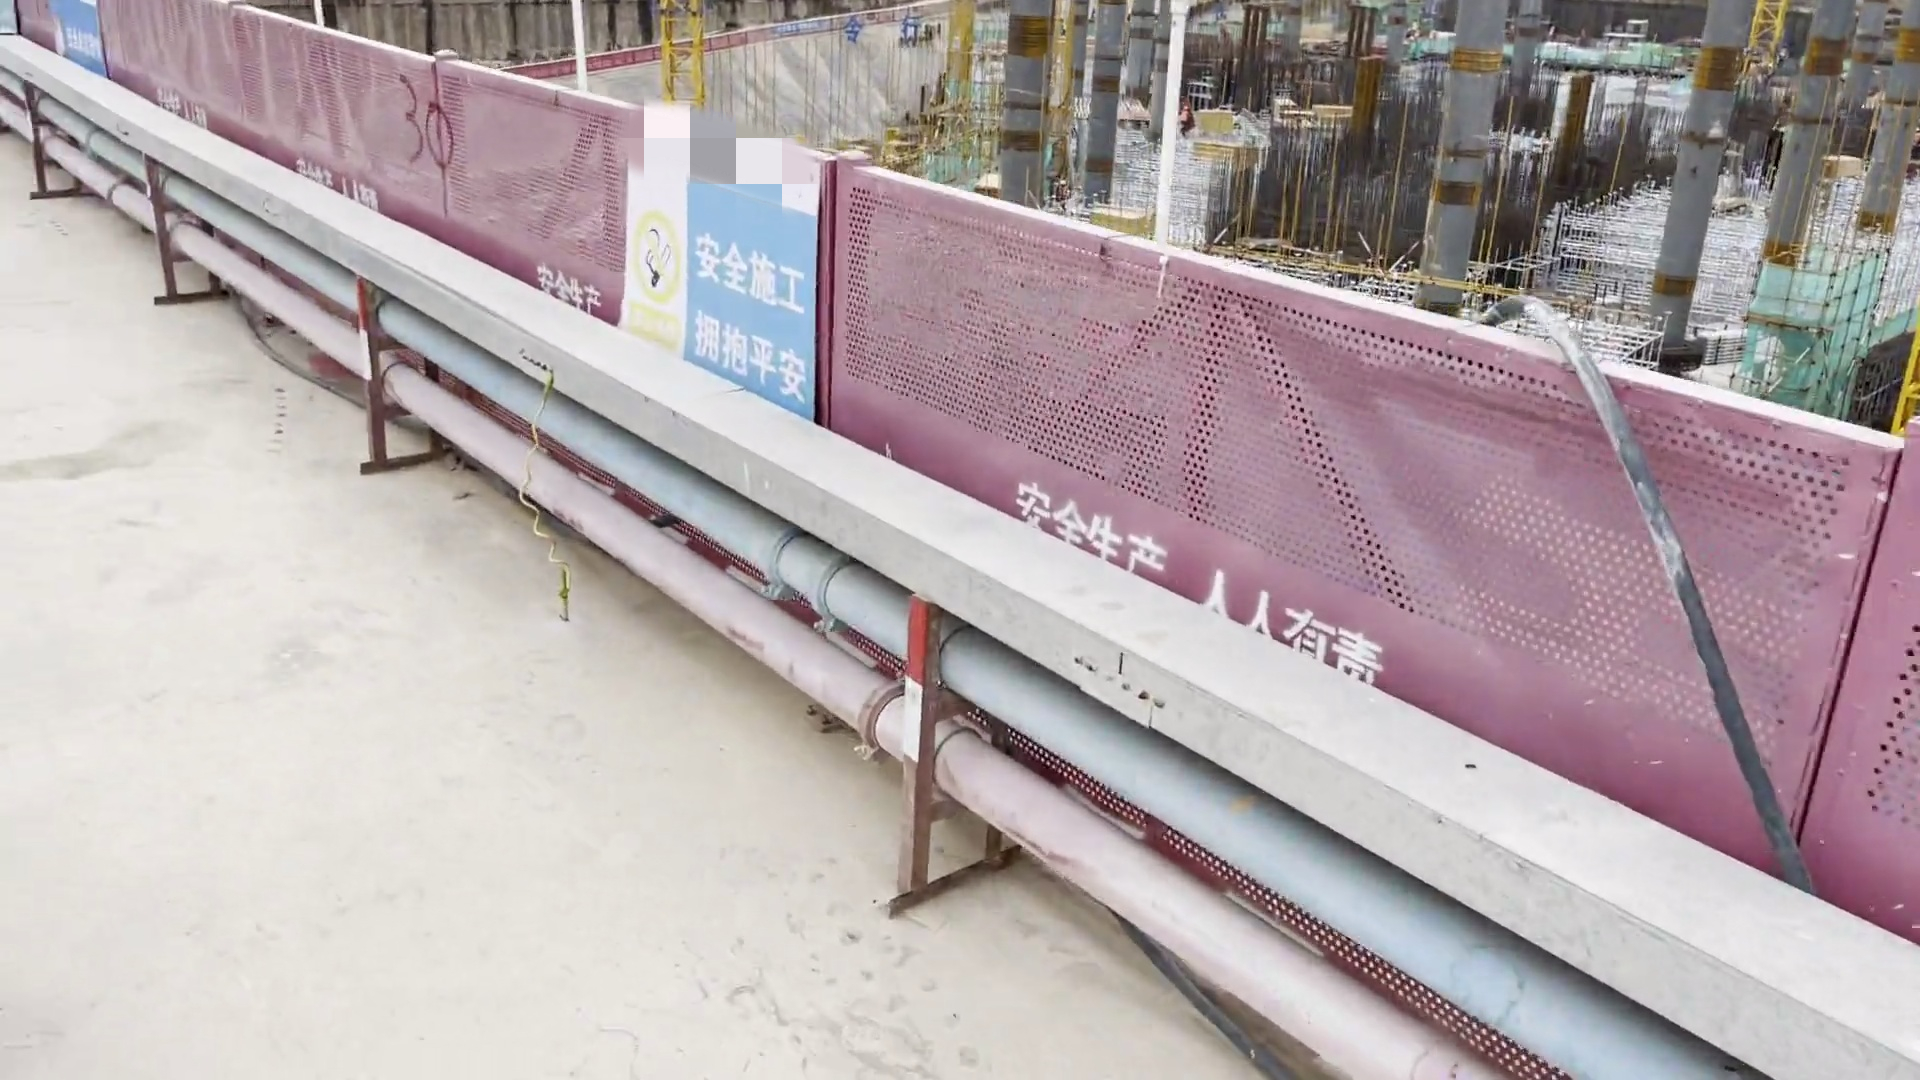fence: (1073, 260, 1695, 824), (657, 115, 1077, 597), (1652, 377, 1920, 949), (345, 34, 669, 414), (3, 1, 353, 237)
scaffold: (1696, 319, 1745, 375)
slogan: (632, 80, 858, 434), (45, 1, 135, 76)
wood: (1195, 107, 1259, 174), (1087, 198, 1159, 232), (967, 171, 1006, 194)
